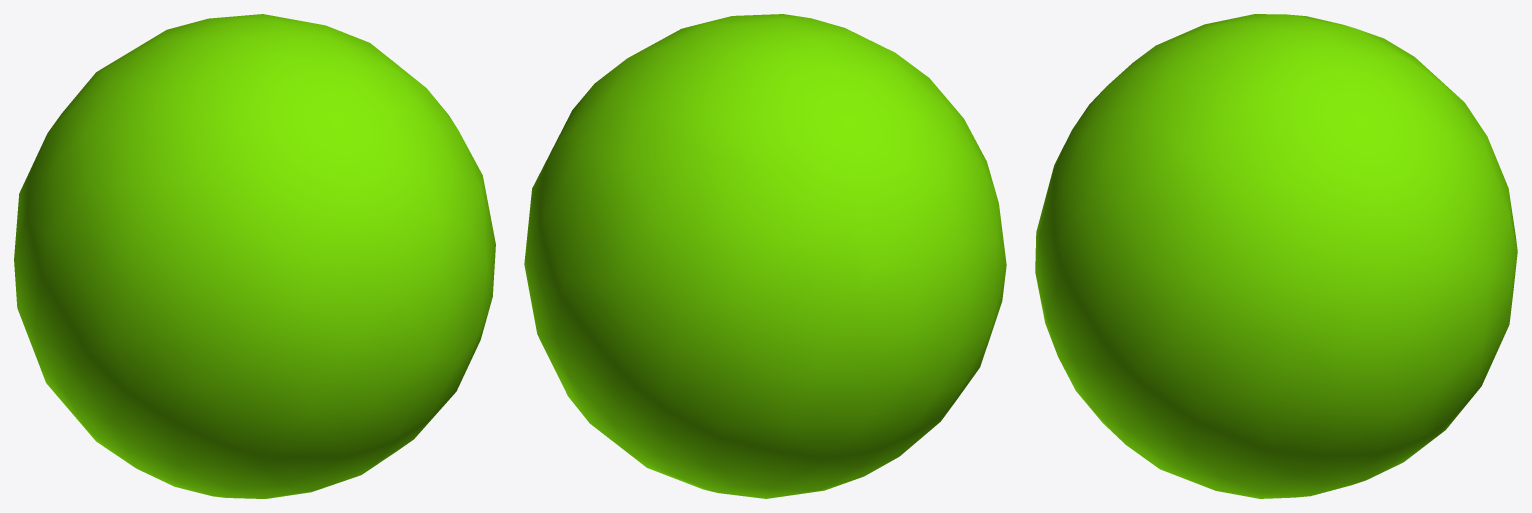
Rendered from WithoutAniShield_VFX_Dumangan.fbx.
3 views of the same model, side by side, from view 1: azimuth 30°, elevation 25°; view 2: azimuth 150°, elevation 25°; view 3: azimuth 270°, elevation 25° (orthographic).
Parts seen in each view (by area): view 1: Sphere; view 2: Sphere; view 3: Sphere.
Boxes of the visible parts, bbox=[...] form: Sphere: bbox=[14, 14, 495, 498]; Sphere: bbox=[524, 14, 1006, 498]; Sphere: bbox=[1035, 14, 1517, 498].
Size of the model in its own units: 131 by 133 by 131.
